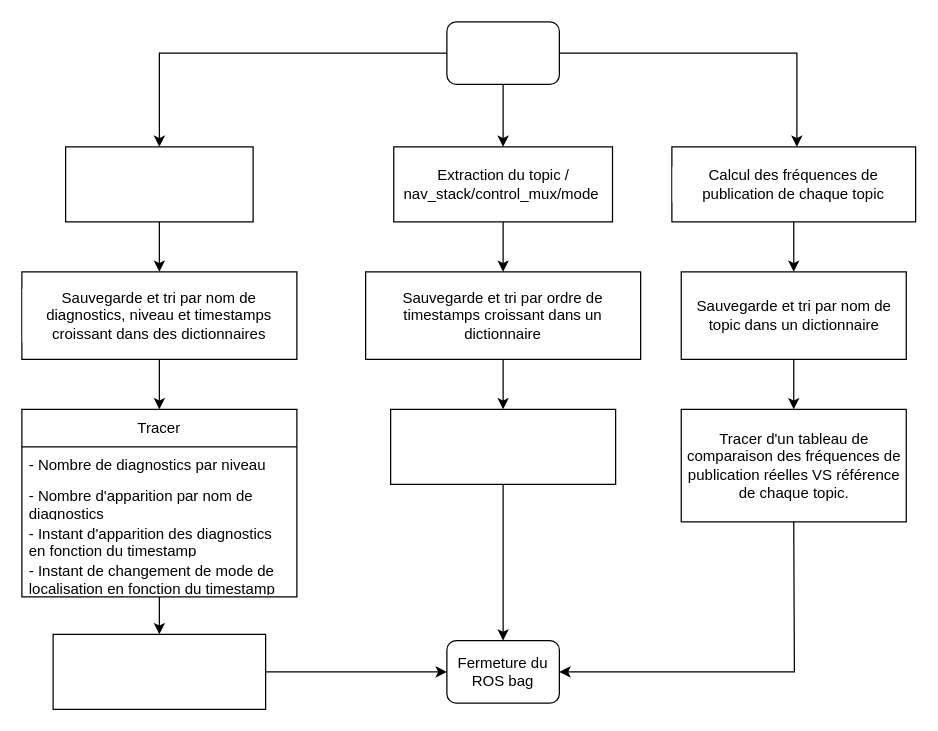
Some shapes in this 938 by 731 pixel diagram are drawn without their labels. Each missing label, with the centre of its shape:
Extraction des topics de type DiagnosticArray: (158,184)
Génération du résumé de diagnostics au format text: (159,671)
Overture du ROS bag: (502,52)
Tracer de la figure de changement de mode en fonction du timestamp: (502,446)
